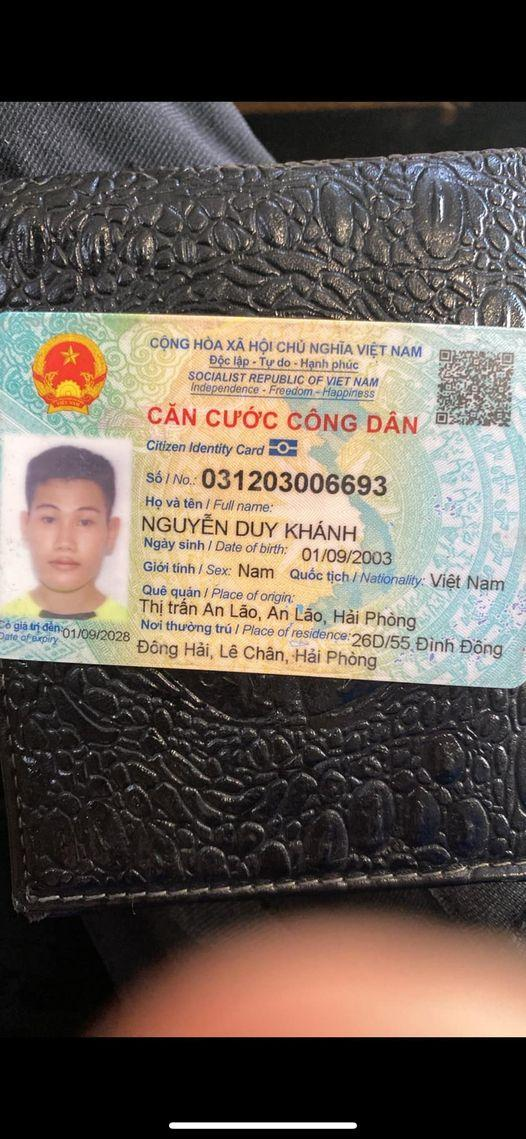bottom_right: (498, 664, 526, 694)
image_person: (0, 433, 135, 623)
top_left: (0, 301, 17, 328)
top_right: (496, 316, 526, 355)
